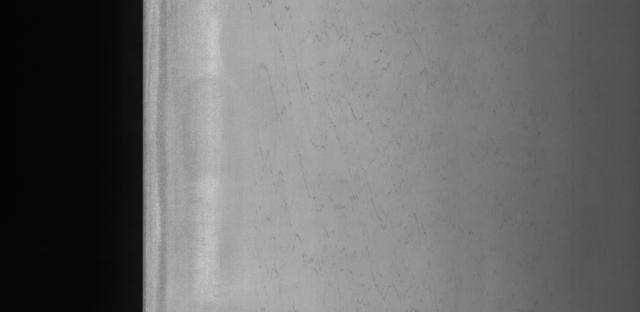silk_spot: (256, 2, 442, 298)
